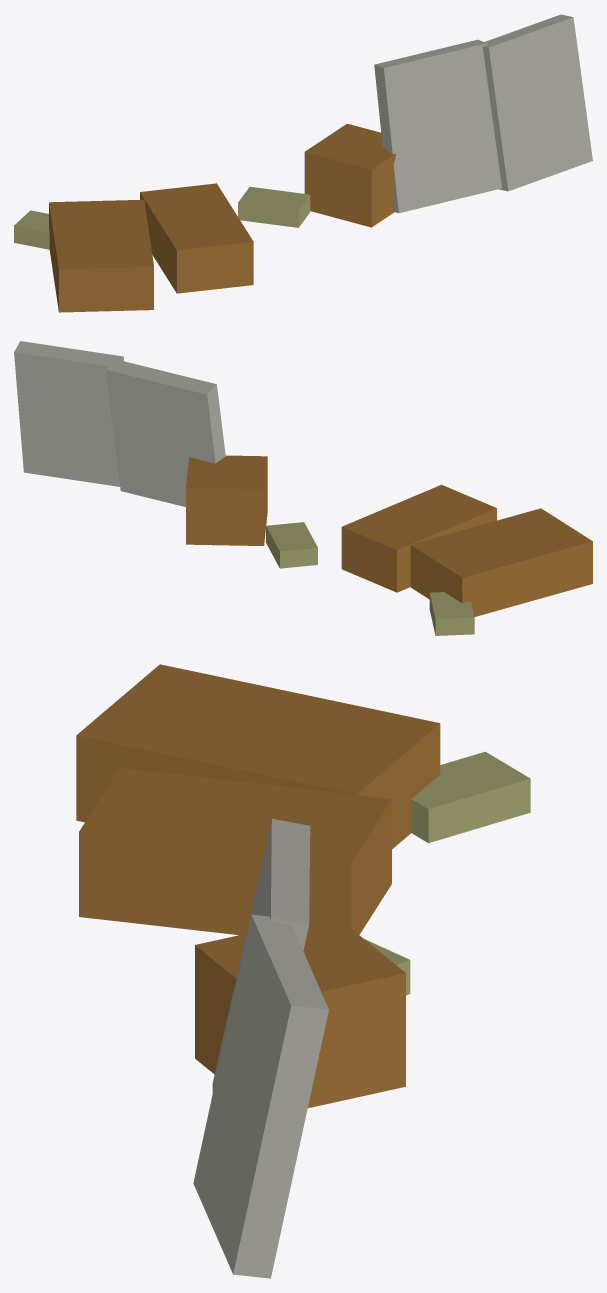
The model's file is SM_BarricadaCivil_v1_Muebles_e2_MuyDanado_LOD1.fbx.
3 views of the same model, one above another, from view 1: azimuth 30°, elevation 25°; view 2: azimuth 150°, elevation 25°; view 3: azimuth 270°, elevation 25° (orthographic). The views are drawn at different scales.
Visible parts, largest first — view 1: SM_barricada_civil_v6_LOD1; view 2: SM_barricada_civil_v6_LOD1; view 3: SM_barricada_civil_v6_LOD1.
Part boxes in pixels (x1,y1,x2,y2): SM_barricada_civil_v6_LOD1: [14, 14, 592, 312]; SM_barricada_civil_v6_LOD1: [14, 341, 592, 635]; SM_barricada_civil_v6_LOD1: [76, 664, 530, 1278].
Bounding box in the file's own units: 8.03 × 1.91 × 2.9.
